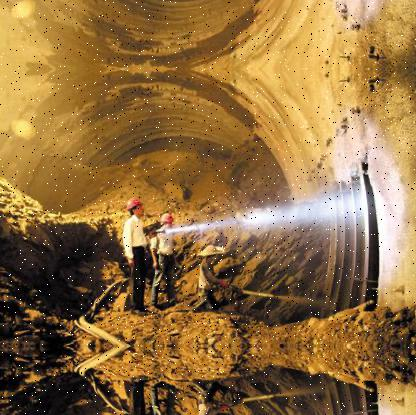helmet: (125, 194, 148, 220), (159, 210, 175, 230)
